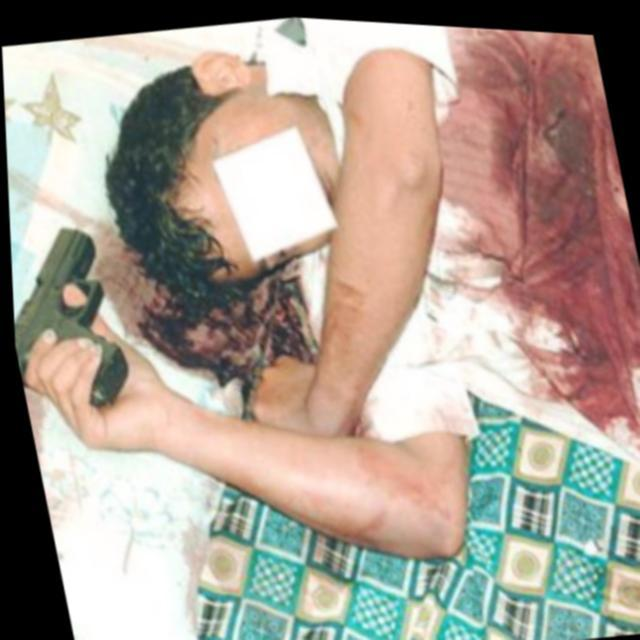weapon: (8, 216, 132, 419)
